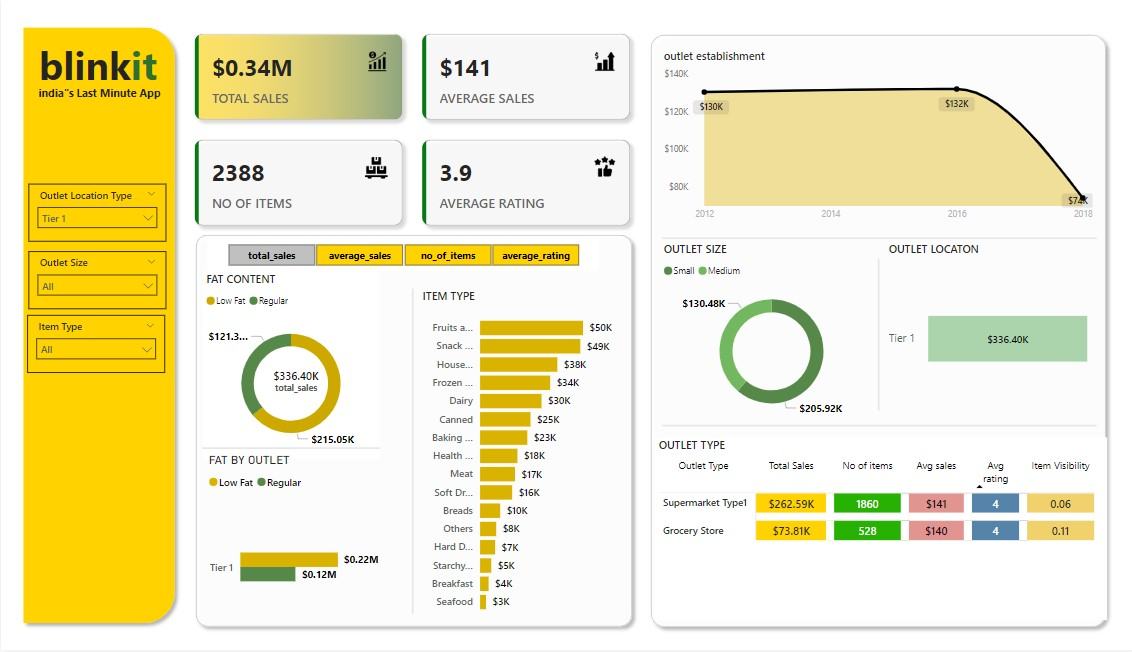

Layout of this report page (visuals, bound fields, positions):
{"tool":"powerbi","page":{"name":"Page 1","canvas":[1400,800],"ordinal":0},"visuals":[{"type":"shape","box":[17.8,24.4,204.4,751.1],"z":0},{"type":"textbox","box":[26.7,42.2,186.7,84.4],"z":1000},{"type":"textbox","box":[20,100,202.2,35.6],"z":2000},{"type":"cardVisual","fields":{"Data":["BlinkIT Grocery Data.total_sales","BlinkIT Grocery Data.average_sales","BlinkIT Grocery Data.no_of_items","BlinkIT Grocery Data.average_rating"]},"box":[222.2,24.1,570.4,270.4],"z":3000},{"type":"shape","box":[231.4,280.4,554.9,500],"z":4000},{"type":"donutChart","title":"FAT CONTENT","fields":{"Y":["BlinkIT Grocery Data.No of items"],"Category":["BlinkIT Grocery Data.Item Fat Content"]},"box":[248.4,334.4,218.8,231.2],"z":5000},{"type":"slicer","fields":{"Values":["Metrics.Metrics"]},"box":[254.2,294.4,481.9,38.9],"z":6000},{"type":"cardVisual","fields":{"Data":["BlinkIT Grocery Data.No of items"]},"box":[298.6,423.6,129.2,91.7],"z":7000},{"type":"clusteredBarChart","title":" FAT BY OUTLET","fields":{"Y":["BlinkIT Grocery Data.No of items"],"Category":["BlinkIT Grocery Data.Outlet Location Type"],"Series":["BlinkIT Grocery Data.Item Fat Content"]},"box":[250,556.2,218.8,231.2],"z":8000},{"type":"shape","box":[248.4,450,218.8,201.6],"z":9000},{"type":"shape","box":[396.4,355.4,219.6,400],"z":10000},{"type":"barChart","title":"ITEM TYPE","fields":{"Y":["BlinkIT Grocery Data.No of items"],"Category":["BlinkIT Grocery Data.Item Type"]},"box":[514.3,355.4,251.8,408.9],"z":11000},{"type":"shape","box":[790.6,34.4,578.1,746.9],"z":12000},{"type":"lineChart","title":"outlet establishment","fields":{"Y":["BlinkIT Grocery Data.Total Sales"],"Category":["BlinkIT Grocery Data.Outlet Establishment Year"]},"box":[810.3,60.3,537.9,220.7],"z":13000},{"type":"shape","box":[813.8,70.7,534.5,444.8],"z":14000},{"type":"donutChart","title":"OUTLET SIZE","fields":{"Y":["BlinkIT Grocery Data.Total Sales"],"Category":["BlinkIT Grocery Data.Outlet Size"]},"box":[810.1,297.1,275.4,226.1],"z":15000},{"type":"shape","box":[971,318.8,218.8,187],"z":16000},{"type":"funnel","title":"OUTLET LOCATON","fields":{"Category":["BlinkIT Grocery Data.Outlet Location Type"],"Y":["BlinkIT Grocery Data.Total Sales"]},"box":[1088.4,297.1,259.4,221.7],"z":17000},{"type":"shape","box":[814.5,423.2,534.8,201.4],"z":18000},{"type":"pivotTable","title":"OUTLET TYPE","fields":{"Rows":["BlinkIT Grocery Data.Outlet Type"],"Values":["BlinkIT Grocery Data.Total Sales","BlinkIT Grocery Data.No of items","BlinkIT Grocery Data.average_sales","BlinkIT Grocery Data.average_rating","Avg(BlinkIT Grocery Data.Item Visibility)"]},"box":[803.8,540.4,557.7,225],"z":19000},{"type":"slicer","fields":{"Values":["BlinkIT Grocery Data.Outlet Location Type"]},"box":[33.3,226.1,169.6,71],"z":20000},{"type":"slicer","fields":{"Values":["BlinkIT Grocery Data.Outlet Size"]},"box":[33.3,308.7,169.6,71],"z":21000},{"type":"slicer","fields":{"Values":["BlinkIT Grocery Data.Item Type"]},"box":[31.9,387,169.6,71],"z":22000}]}

Visuals, with their boxes in screenshot pixels (x1, y1, x2, y2), scaled from the page's 1400x800 canvas onto the 1132x652 screenshot:
shape: [14,20,180,632]
textbox: [22,34,173,103]
textbox: [16,82,180,111]
cardVisual - BlinkIT Grocery Data.total_sales x BlinkIT Grocery Data.average_sales: [180,20,641,240]
shape: [187,229,636,636]
"FAT CONTENT" donutChart: [201,273,378,461]
slicer - Metrics.Metrics: [206,240,595,272]
cardVisual - BlinkIT Grocery Data.No of items: [241,345,346,420]
" FAT BY OUTLET" clusteredBarChart: [202,453,379,642]
shape: [201,367,378,531]
shape: [321,290,498,616]
"ITEM TYPE" barChart: [416,290,619,623]
shape: [639,28,1107,637]
"outlet establishment" lineChart: [655,49,1090,229]
shape: [658,58,1090,420]
"OUTLET SIZE" donutChart: [655,242,878,426]
shape: [785,260,962,412]
"OUTLET LOCATON" funnel: [880,242,1090,423]
shape: [659,345,1091,509]
"OUTLET TYPE" pivotTable: [650,440,1101,624]
slicer - BlinkIT Grocery Data.Outlet Location Type: [27,184,164,242]
slicer - BlinkIT Grocery Data.Outlet Size: [27,252,164,309]
slicer - BlinkIT Grocery Data.Item Type: [26,315,163,373]
